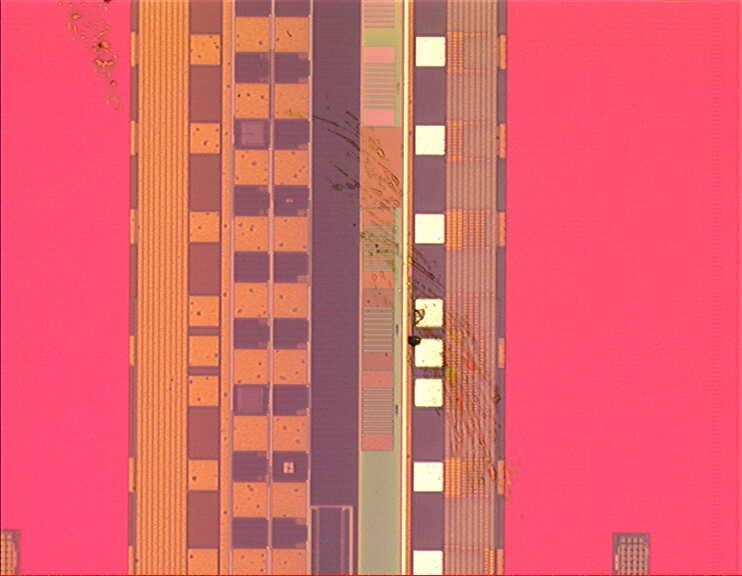SCRATCH: (54, 1, 529, 522)
